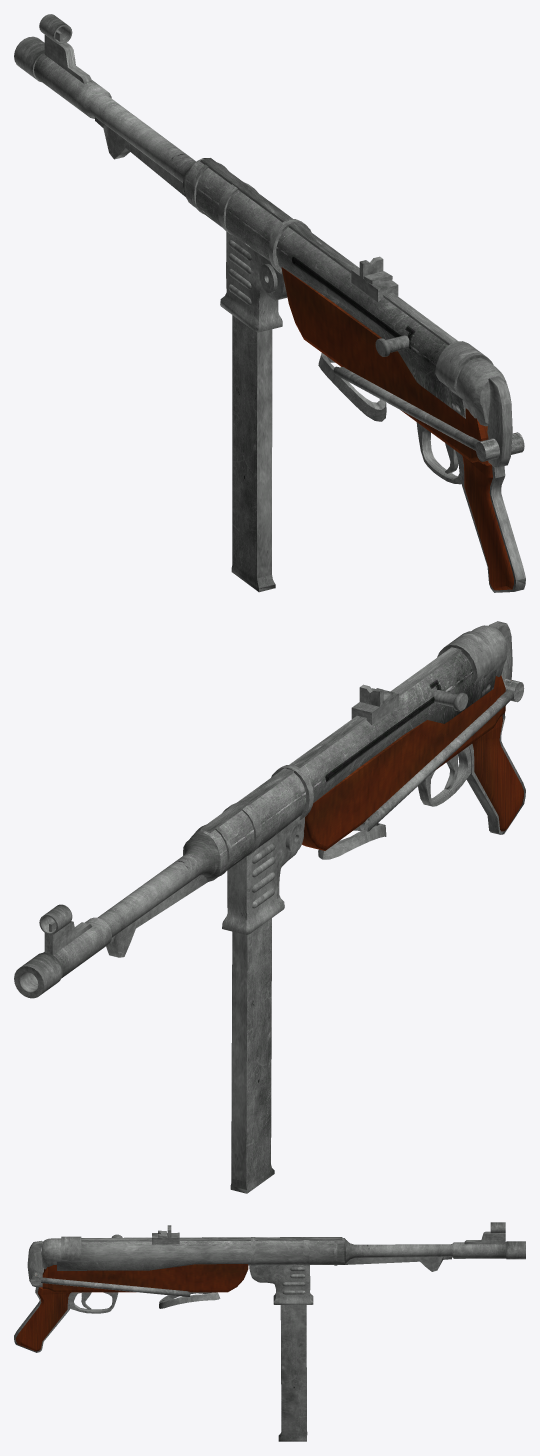
File: mp40_world.fbx
The picture shows the model from 3 angles, top to bottom: view 1: azimuth 30°, elevation 25°; view 2: azimuth 150°, elevation 25°; view 3: azimuth 270°, elevation 25°; orthographic projection. The views are drawn at different scales.
Parts seen in each view (by area): view 1: mp40_reciever, mp40_clip, mp40_wood, mp40_barrel, mp40_pistolgripwood, mp40_pistolgrip, mp40_back, mp40_stockwire, mp40_frontsight, mp40_rearsight, mp40_stock, mp40_battlemount (+2 smaller); view 2: mp40_reciever, mp40_clip, mp40_wood, mp40_barrel, mp40_pistolgripwood, mp40_stockwire, mp40_frontsight, mp40_battlemount, mp40_trigger, mp40_rearsight, mp40_pistolgrip, mp40_stock; view 3: mp40_reciever, mp40_wood, mp40_clip, mp40_barrel, mp40_pistolgripwood, mp40_stockwire, mp40_battlemount, mp40_frontsight, mp40_stock, mp40_back, mp40_trigger, mp40_pistolgrip (+1 smaller).
Boxes of the visible parts, bbox=[...] form: mp40_reciever: bbox=[186, 158, 506, 426]; mp40_clip: bbox=[231, 315, 275, 592]; mp40_wood: bbox=[281, 267, 488, 464]; mp40_barrel: bbox=[14, 36, 196, 197]; mp40_pistolgripwood: bbox=[462, 455, 513, 590]; mp40_pistolgrip: bbox=[459, 453, 525, 592]; mp40_back: bbox=[487, 376, 512, 467]; mp40_stockwire: bbox=[333, 366, 479, 450]; mp40_frontsight: bbox=[39, 14, 91, 83]; mp40_rearsight: bbox=[351, 256, 398, 301]; mp40_stock: bbox=[318, 353, 386, 421]; mp40_battlemount: bbox=[95, 117, 185, 196]; mp40_reciever: bbox=[194, 625, 507, 934]; mp40_clip: bbox=[230, 918, 274, 1193]; mp40_wood: bbox=[302, 675, 505, 850]; mp40_barrel: bbox=[14, 832, 220, 998]; mp40_pistolgripwood: bbox=[472, 715, 523, 831]; mp40_stockwire: bbox=[360, 689, 512, 831]; mp40_frontsight: bbox=[39, 904, 91, 954]; mp40_battlemount: bbox=[106, 875, 207, 957]; mp40_trigger: bbox=[418, 746, 471, 806]; mp40_rearsight: bbox=[351, 684, 398, 724]; mp40_pistolgrip: bbox=[466, 713, 525, 834]; mp40_stock: bbox=[318, 823, 386, 859]; mp40_reciever: bbox=[41, 1236, 344, 1304]; mp40_wood: bbox=[42, 1264, 248, 1292]; mp40_clip: bbox=[278, 1305, 307, 1441]; mp40_barrel: bbox=[344, 1238, 525, 1264]; mp40_pistolgripwood: bbox=[15, 1287, 71, 1351]; mp40_stockwire: bbox=[40, 1277, 190, 1296]; mp40_battlemount: bbox=[345, 1257, 451, 1271]; mp40_frontsight: bbox=[464, 1222, 505, 1244]; mp40_stock: bbox=[159, 1292, 220, 1308]; mp40_back: bbox=[27, 1240, 43, 1287]; mp40_trigger: bbox=[70, 1292, 118, 1313]; mp40_pistolgrip: bbox=[14, 1287, 73, 1352].
Size of the model in its own units: 2.34 by 14.94 by 31.98.
Materials: 1 (1 with a texture image).
